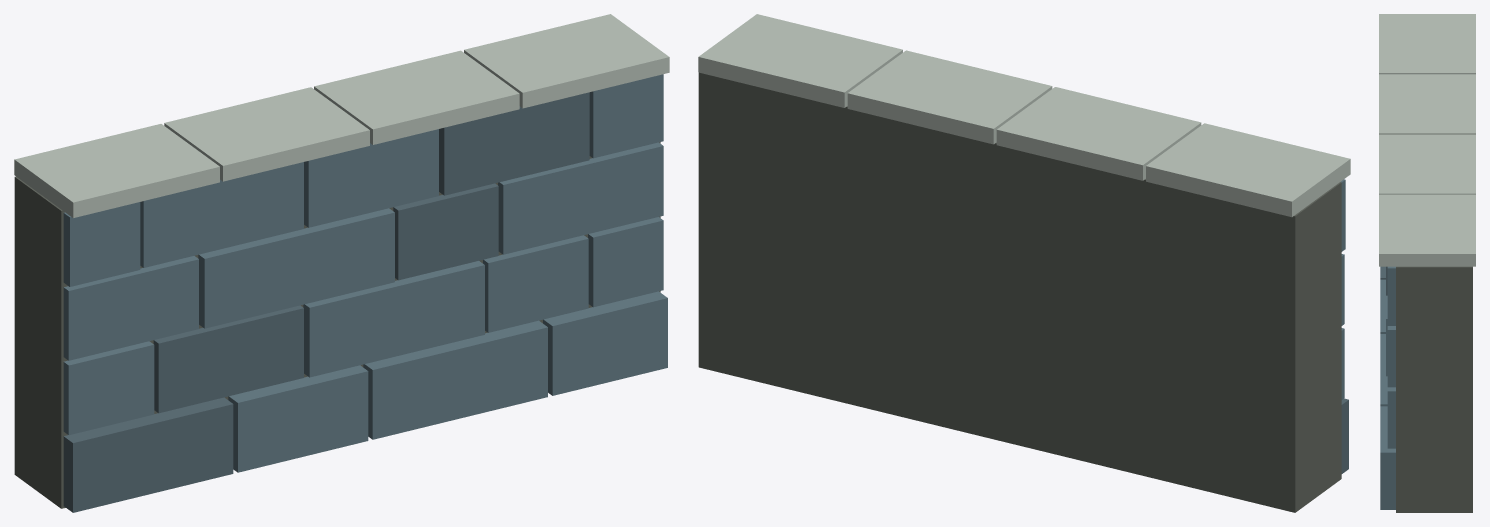
The model's file is retaining_wall_4x2.glb.
3 views of the same model, side by side, from view 1: azimuth 30°, elevation 25°; view 2: azimuth 150°, elevation 25°; view 3: azimuth 270°, elevation 25° (orthographic). The views are drawn at different scales.
Visible parts, largest first — view 1: RetainingWall4X2 / Stone, RetainingWall4X2 / Coping, RetainingWall4X2 / StoneShade, RetainingWall4X2 / Rock; view 2: RetainingWall4X2 / Rock, RetainingWall4X2 / Coping, RetainingWall4X2 / Stone; view 3: RetainingWall4X2 / Coping, RetainingWall4X2 / Rock, RetainingWall4X2 / Stone, RetainingWall4X2 / StoneShade.
Part boxes in pixels (x1,y1,x2,y2): RetainingWall4X2 / Stone: (63, 74, 667, 472); RetainingWall4X2 / Coping: (14, 14, 669, 218); RetainingWall4X2 / StoneShade: (63, 92, 589, 512); RetainingWall4X2 / Rock: (14, 142, 660, 508); RetainingWall4X2 / Rock: (698, 72, 1341, 512); RetainingWall4X2 / Coping: (698, 14, 1350, 217); RetainingWall4X2 / Stone: (1341, 179, 1345, 399); RetainingWall4X2 / Coping: (1379, 14, 1475, 266); RetainingWall4X2 / Rock: (1396, 266, 1472, 512); RetainingWall4X2 / Stone: (1380, 266, 1395, 509); RetainingWall4X2 / StoneShade: (1380, 266, 1387, 295).
Bounding box in the file's own units: 4 × 2 × 0.68.
